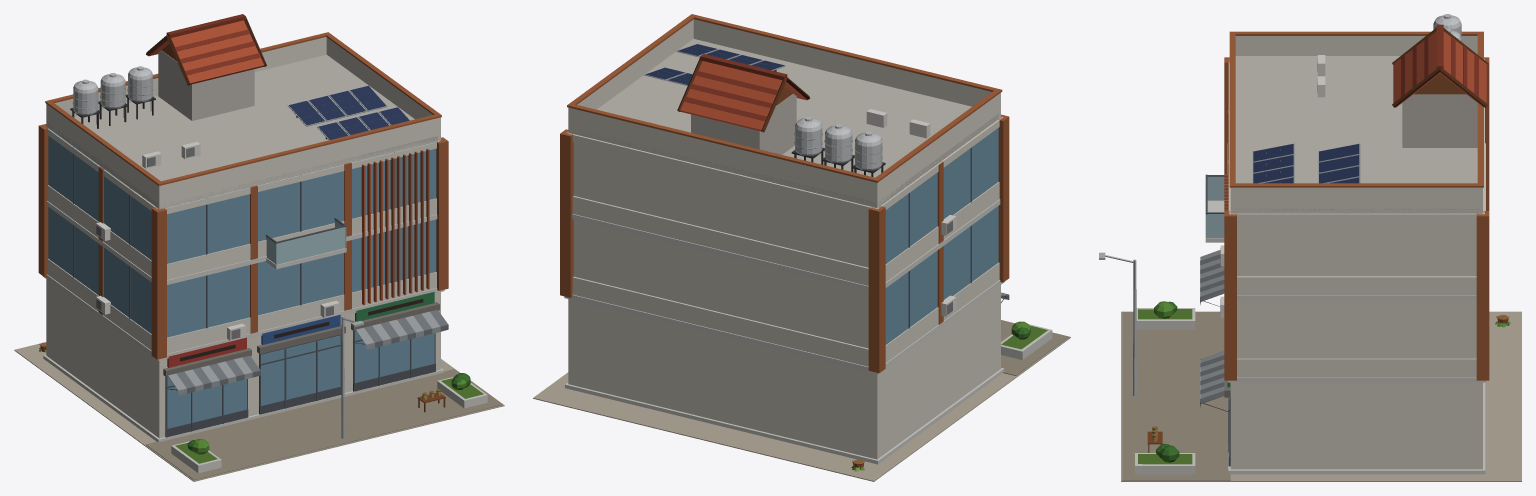
File: shop_2.glb
The picture shows the model from 3 angles, left to right: view 1: azimuth 30°, elevation 25°; view 2: azimuth 150°, elevation 25°; view 3: azimuth 270°, elevation 25°; orthographic projection. The views are drawn at different scales.
Parts seen in each view (by area): view 1: body; view 2: body; view 3: body.
Boxes of the visible parts, x1,y1,x2,y2 form: body: (14,14,504,481); body: (533,14,1070,481); body: (1099,14,1521,481).
Bounding box in the file's own units: 15.9 × 15.7 × 16.77.
